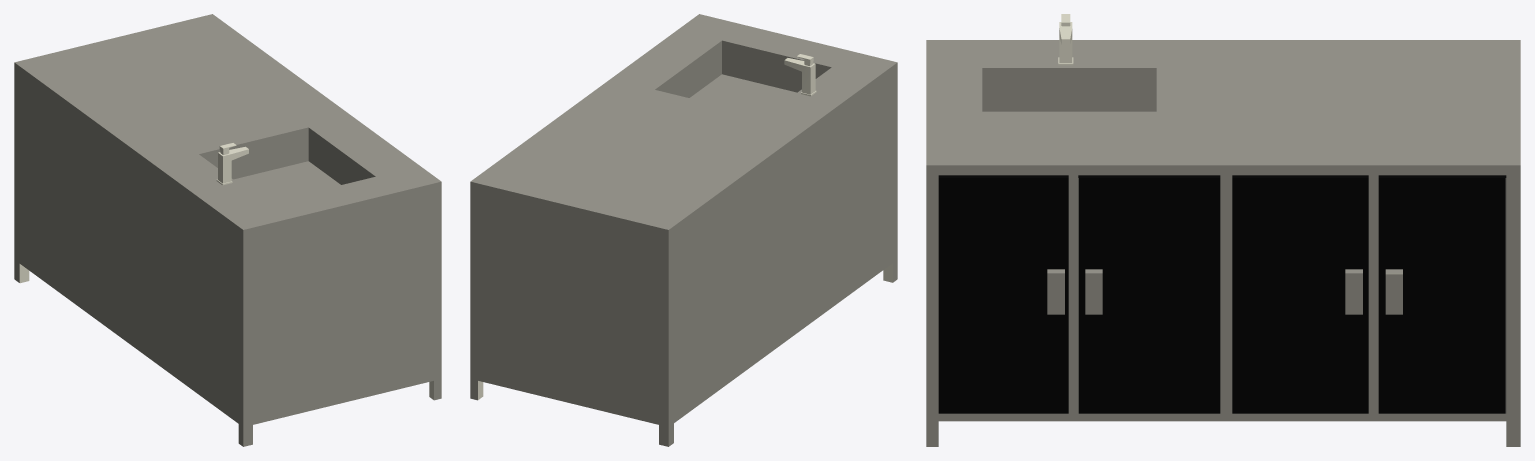
File: SINK.fbx
3 views of the same model, side by side, from view 1: azimuth 30°, elevation 25°; view 2: azimuth 150°, elevation 25°; view 3: azimuth 270°, elevation 25° (orthographic). The views are drawn at different scales.
Visible parts, largest first — view 1: pCube31; view 2: pCube31; view 3: pCube31.
Part boxes in pixels (x1,y1,x2,y2): pCube31: [14, 14, 441, 446]; pCube31: [470, 14, 897, 446]; pCube31: [926, 14, 1520, 446].
Bounding box in the file's own units: 1.05 × 1.22 × 2.
1 material, 1 textured.
